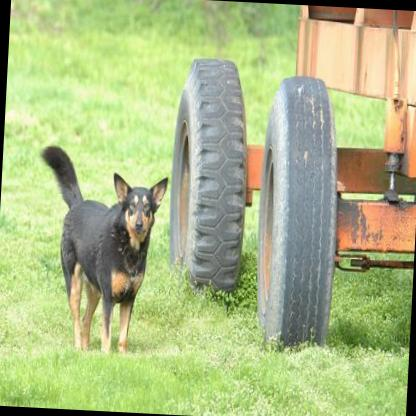kelpie: (26, 141, 170, 356)
